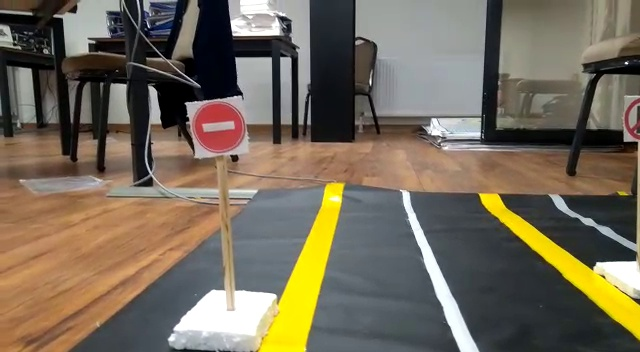girisi_olmayan_yol: (192, 96, 248, 154)
